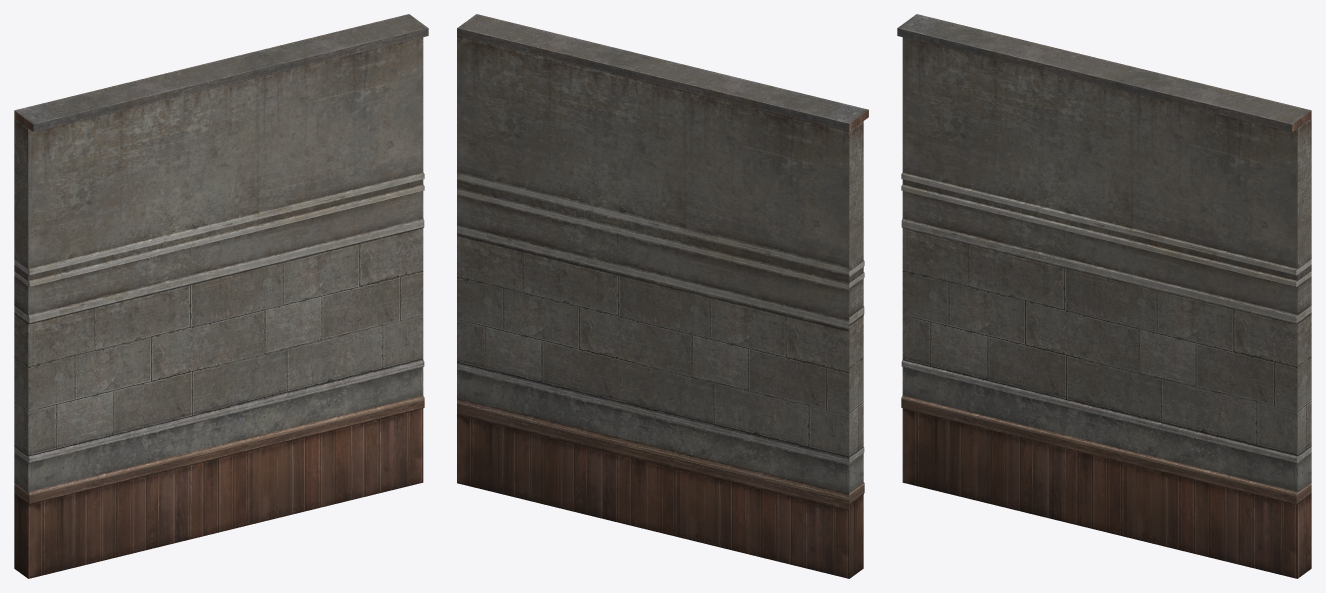
Rendered from bg_lut_lucastle_houseinwall01_sm_phs.FBX.
3 views of the same model, side by side, from view 1: azimuth 30°, elevation 25°; view 2: azimuth 150°, elevation 25°; view 3: azimuth 330°, elevation 25° (orthographic).
Parts seen in each view (by area): view 1: bg_lut_lucastle_houseinwall01_sm_phs; view 2: bg_lut_lucastle_houseinwall01_sm_phs; view 3: bg_lut_lucastle_houseinwall01_sm_phs.
Part boxes in pixels (left/top/right/bottom): bg_lut_lucastle_houseinwall01_sm_phs: left=14, top=14, right=428, bottom=578; bg_lut_lucastle_houseinwall01_sm_phs: left=457, top=14, right=868, bottom=578; bg_lut_lucastle_houseinwall01_sm_phs: left=897, top=14, right=1311, bottom=578.
Bounding box in the file's own units: 384 × 426 × 32.97.
